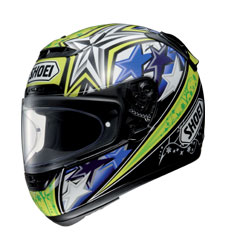helmet: (28, 25, 205, 218)
